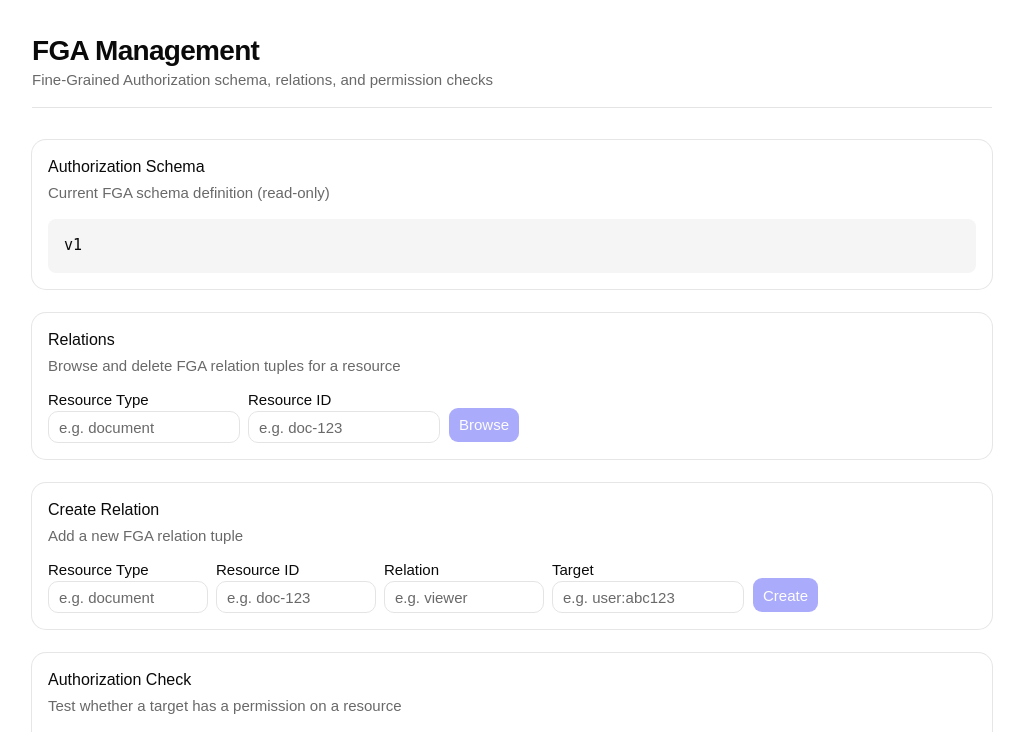
Test: FGAManagement › admin user - browse relations › shows empty message when no relations found
Expected: the text "Authorization Schema" is shown, [48,158,204,175]
Type "document" into the field with id "rel-resource-type".
click(144, 427); type("document")  # box [48,411,240,443]
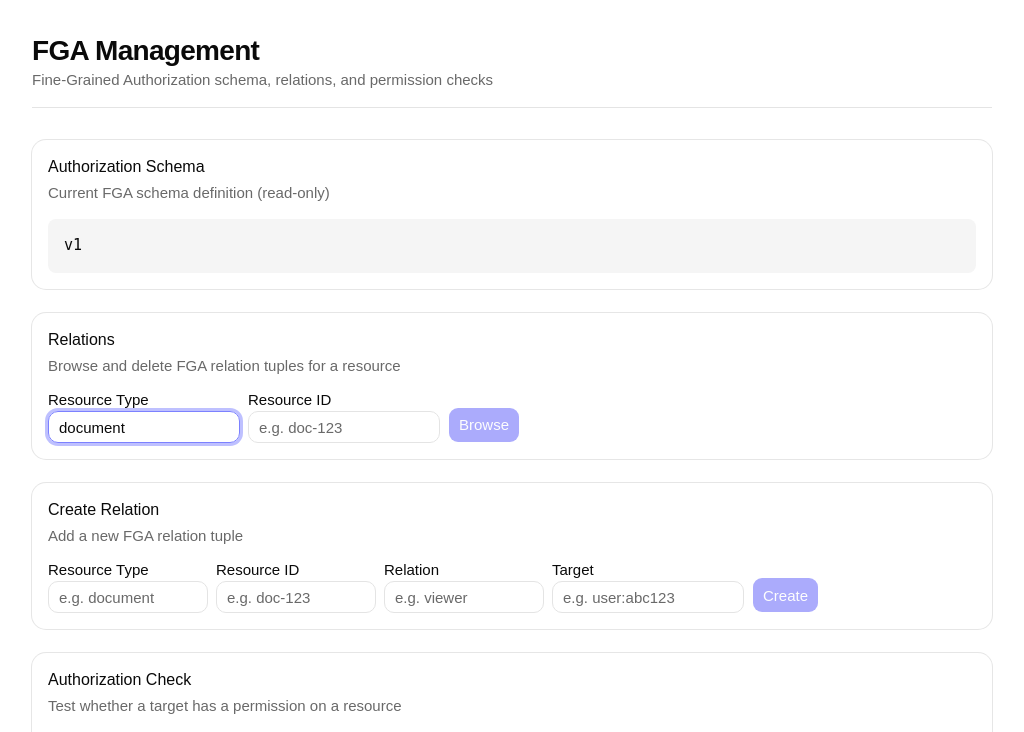
Type "doc-999" into the field with id "rel-resource-id".
click(344, 427); type("doc-999")  # box [248,411,440,443]
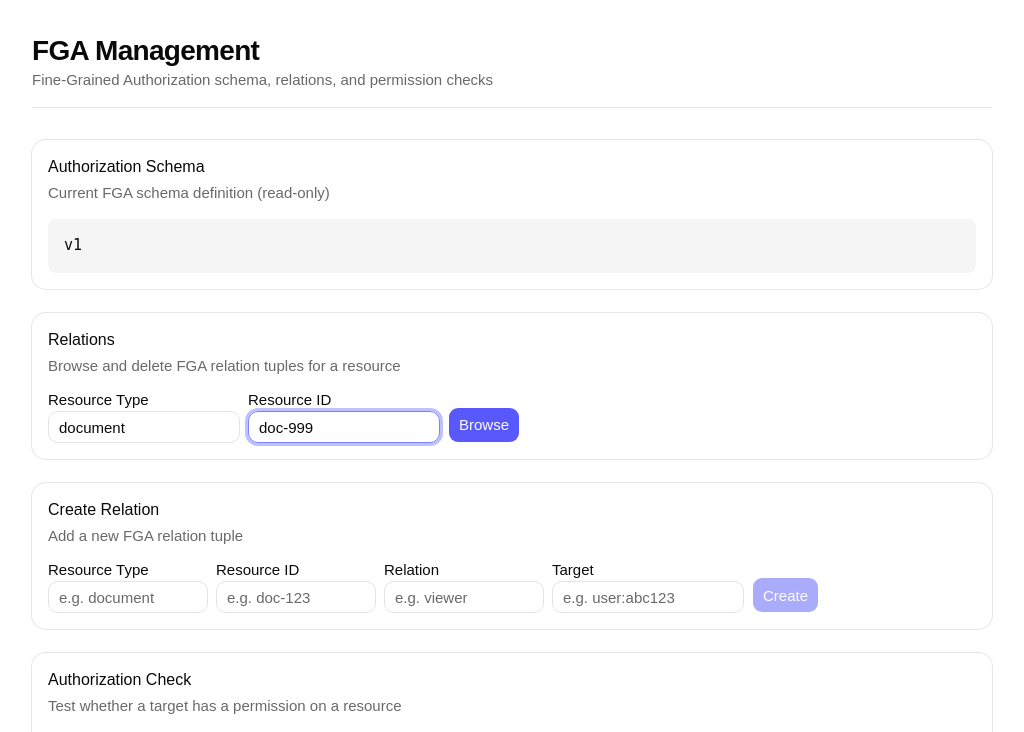
Click the button "Browse".
click(484, 425)  # box [448,407,520,443]
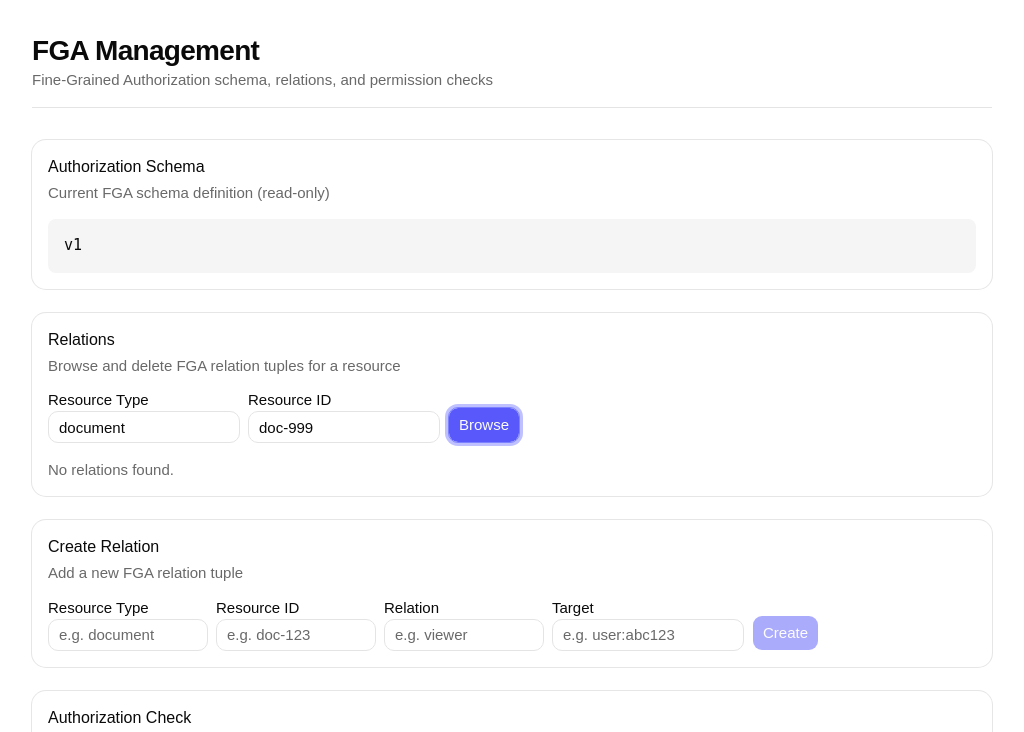
Result: the text "No relations found." is shown at [48,461,174,478]
